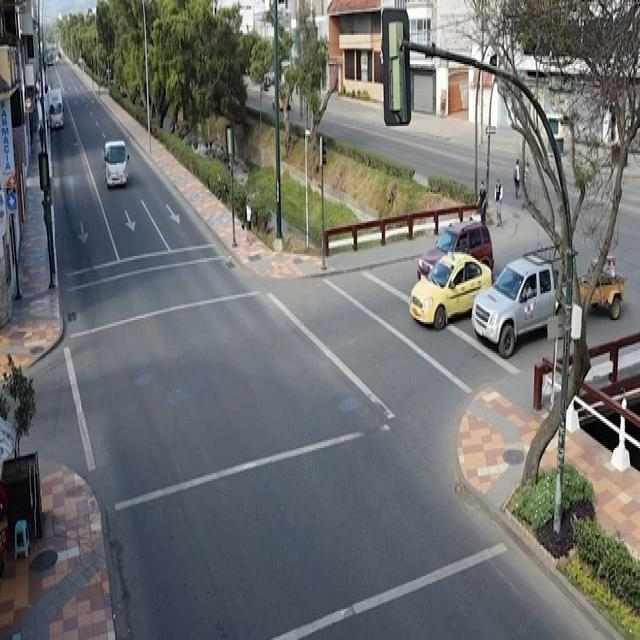CMT: (474, 252, 574, 355)
